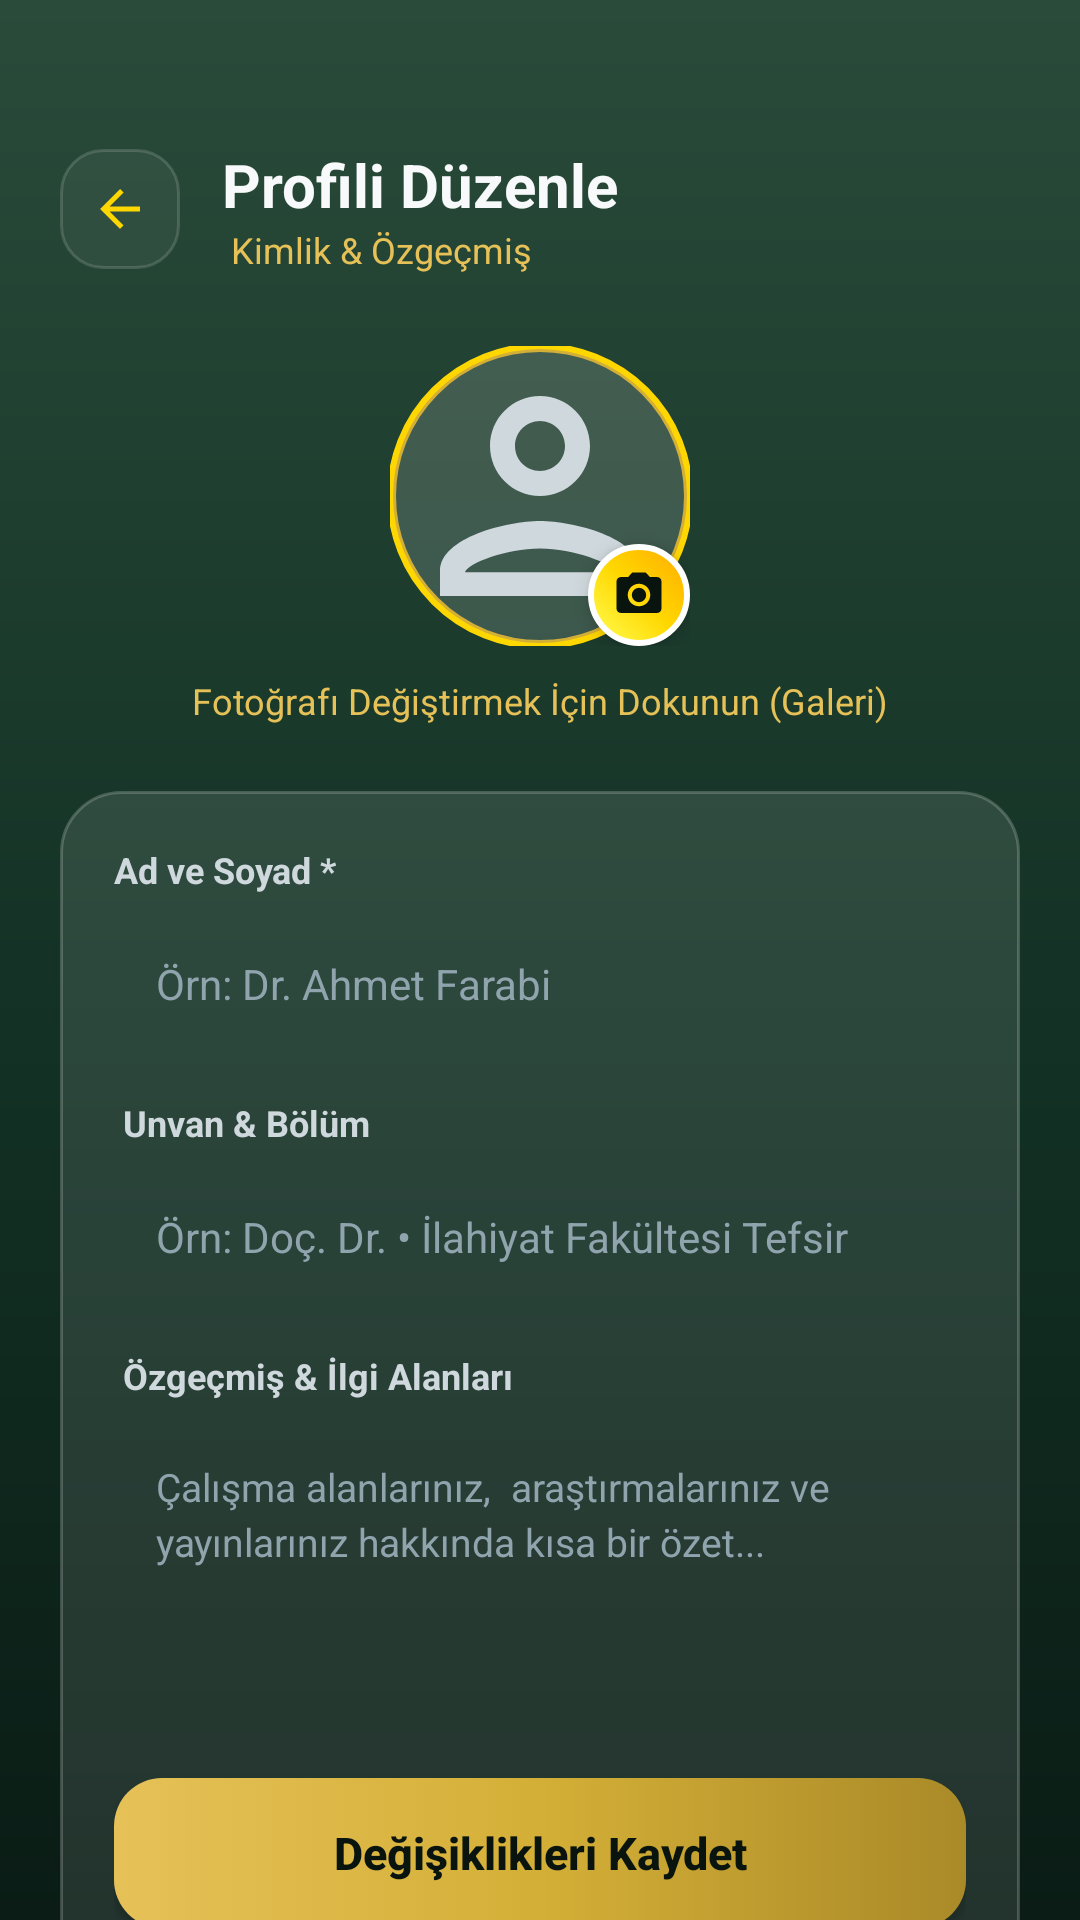

Icon click points for this 1080 × 1920 phone screenshot, format point (x, y):
Geri: point (120, 209)
